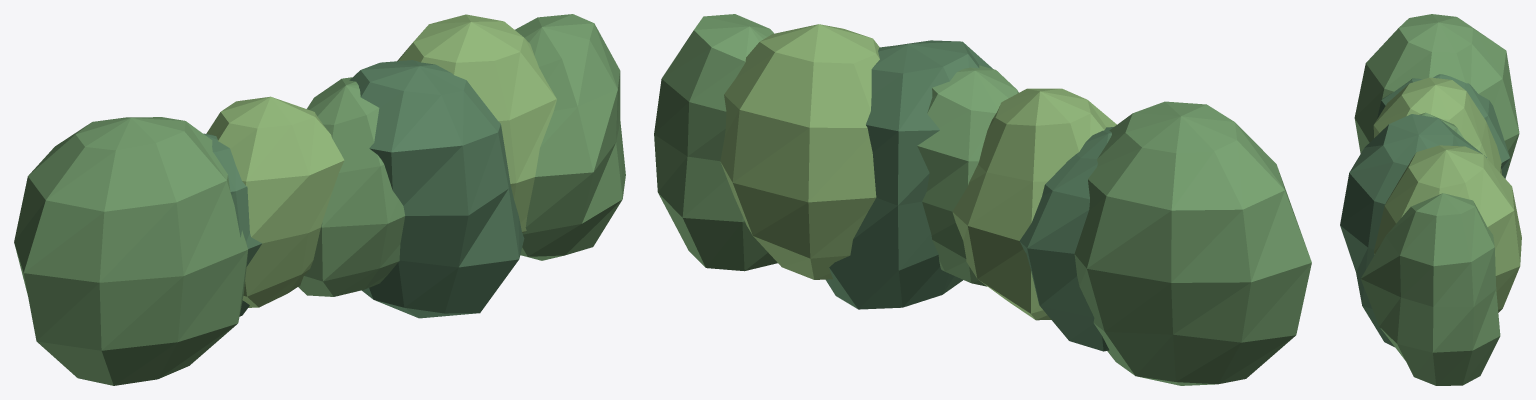
The model's file is hedge_3m.glb.
3 views of the same model, side by side, from view 1: azimuth 30°, elevation 25°; view 2: azimuth 150°, elevation 25°; view 3: azimuth 270°, elevation 25° (orthographic). The views are drawn at different scales.
Parts seen in each view (by area): view 1: hedge_3m; view 2: hedge_3m; view 3: hedge_3m.
Boxes of the visible parts, x1,y1,x2,y2 form: hedge_3m: [14, 14, 625, 385]; hedge_3m: [654, 14, 1311, 385]; hedge_3m: [1340, 14, 1521, 385].
Size of what is drawn, in the model's own units: 3.68 by 1.55 by 1.19.
